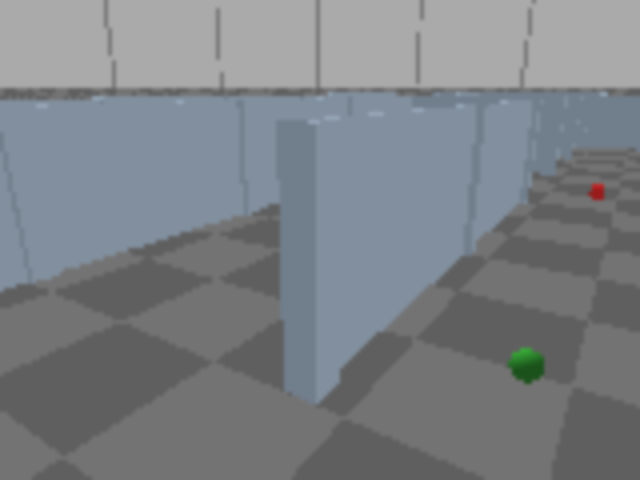puck: (501, 341, 555, 391)
